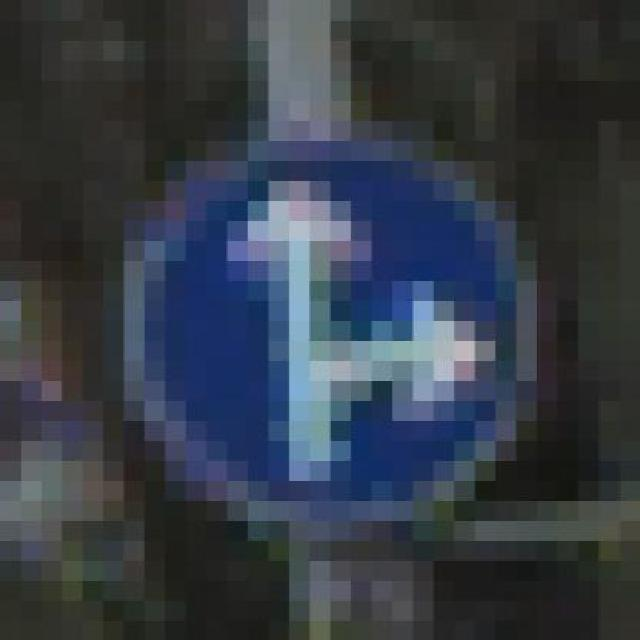Go Straight or Turn Right: (103, 120, 557, 540)
